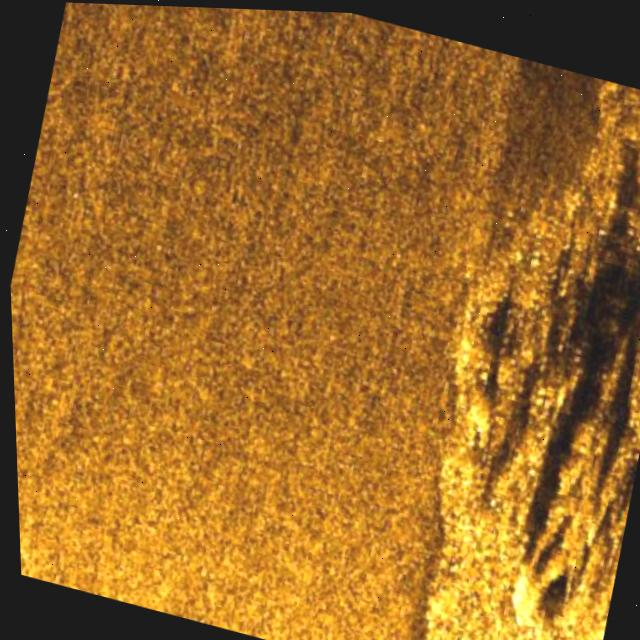bedrock group: (369, 49, 640, 640)
